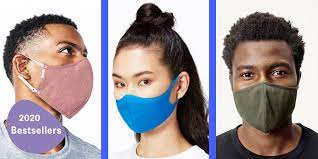FaceMask: (113, 79, 179, 133), (234, 83, 298, 133)
